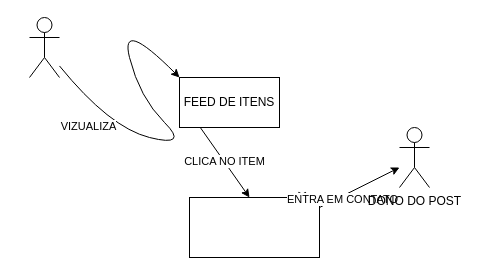
This 478x275 diagram has some shape labels left out. Here are the shapes that lost their labels. From the top down, the box of each, then its label:
(28, 16, 60, 78): USUARIO
(188, 196, 320, 258): ITEM (NOME, TIPO E AUTOR)
